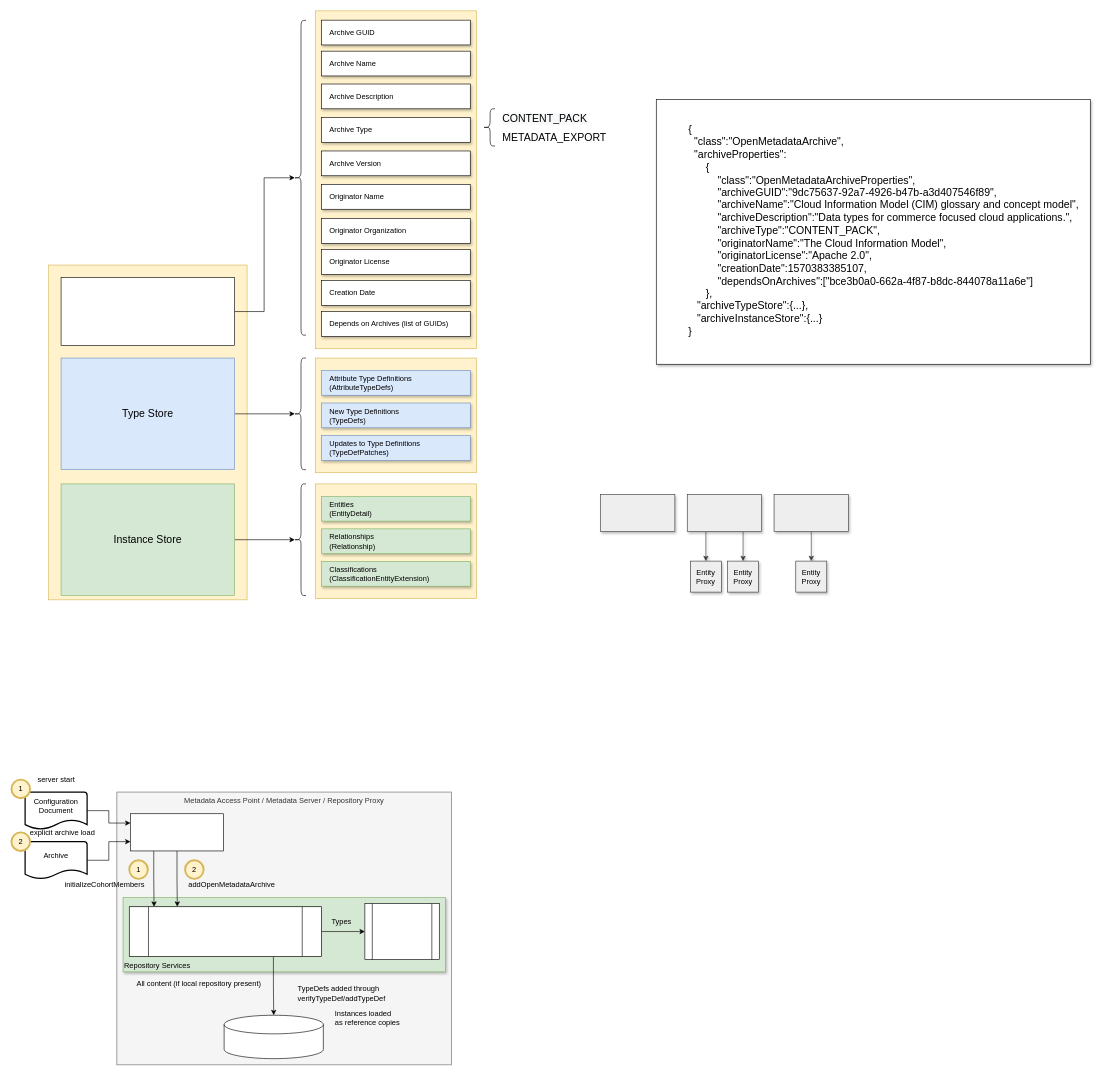
Some shapes in this 1105 by 1076 pixel diagram are drawn without their labels. Here are the shapes that lost their labels. From the top down, the centre of each, then its label:
At [147,311]: "Header".
At [638,513]: "Entity".
At [724,513]: "Relationship".
At [811,513]: "Classification".
At [177,832]: "Admin Services".
At [225,931]: "Archive Manager".
At [401,931]: "Repository Content Manager".
At [273,1037]: "Local Repository".
